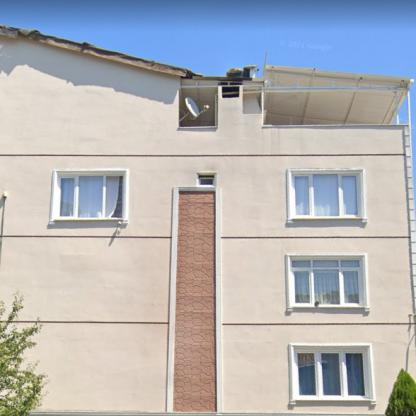window: (297, 351, 368, 397), (292, 259, 361, 305), (57, 174, 124, 218), (292, 174, 359, 216)
